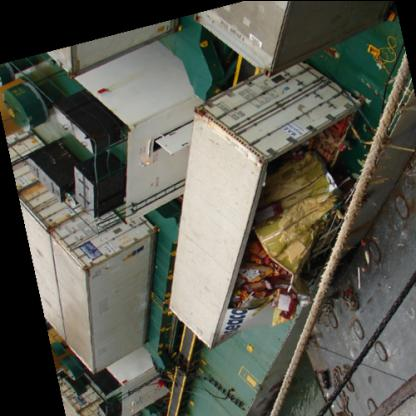Damage: (216, 108, 340, 348)
